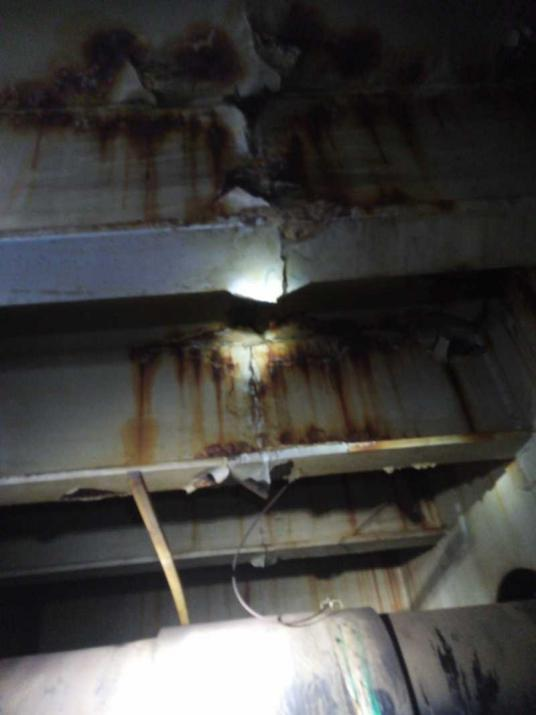corrosion: (248, 96, 438, 201), (86, 116, 245, 232), (135, 26, 257, 107), (166, 332, 234, 457), (412, 334, 487, 427), (265, 8, 375, 70), (65, 25, 145, 99), (0, 58, 71, 140), (313, 339, 366, 440), (251, 340, 299, 445), (116, 348, 157, 468), (369, 481, 435, 537)
